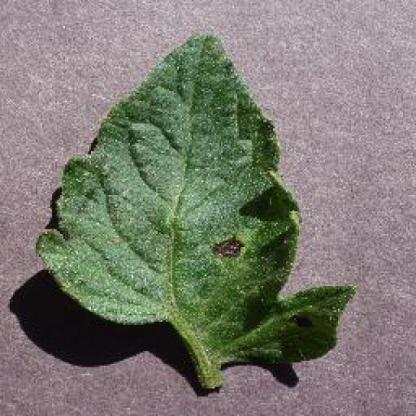Tomato_Blight: (40, 32, 354, 364)
